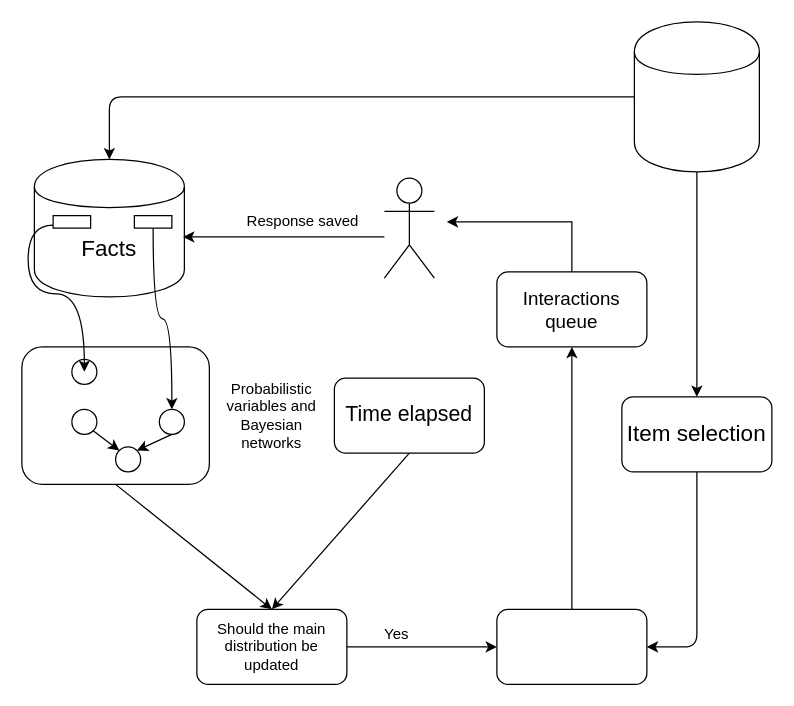
The diagram is 794 pixels wide and 706 high, and some of its shapes have lost their labels. Here are the shapes that lost their labels. From the top down, the centre of each, then its label:
At point 696,96: "Items".
At point 408,227: "Actor".
At point 571,646: "Re-sampling".
